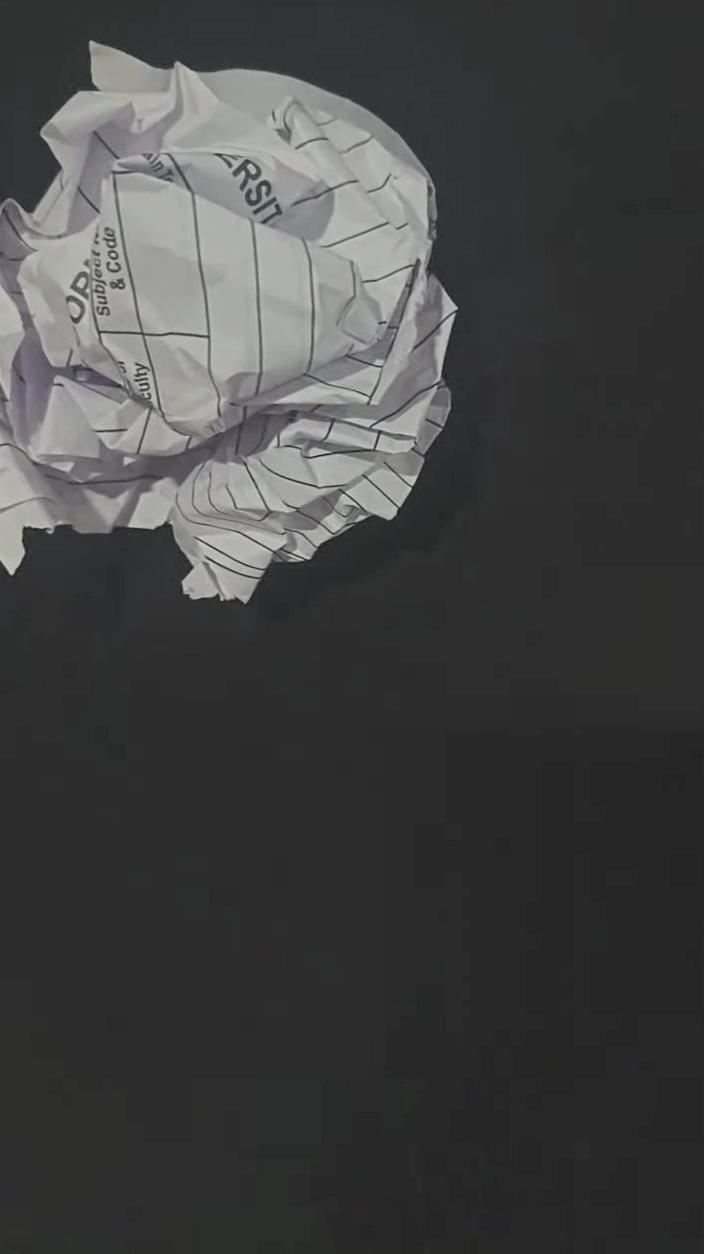PaperBall: (0, 47, 454, 598)
